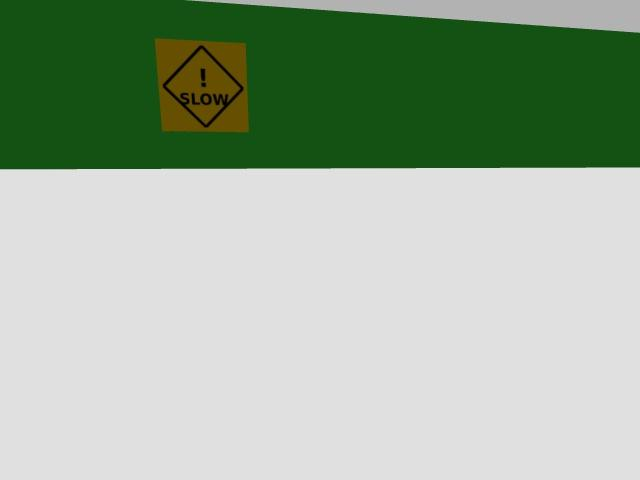slow: (156, 39, 247, 131)
